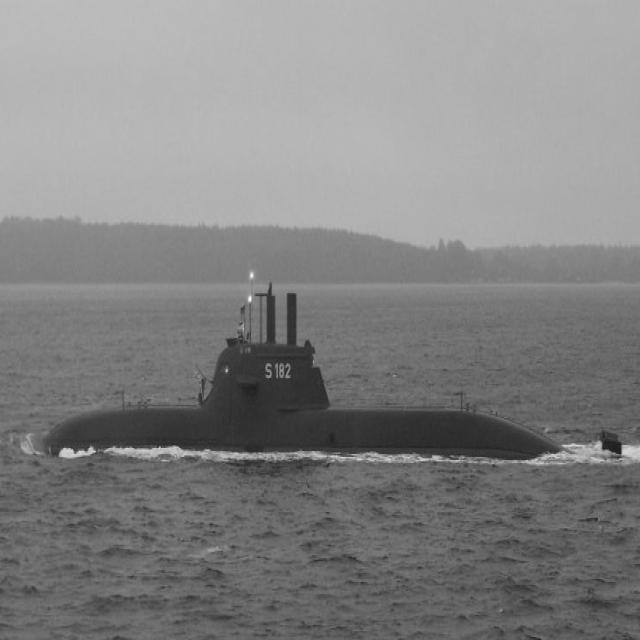submarine: (38, 272, 631, 459)
